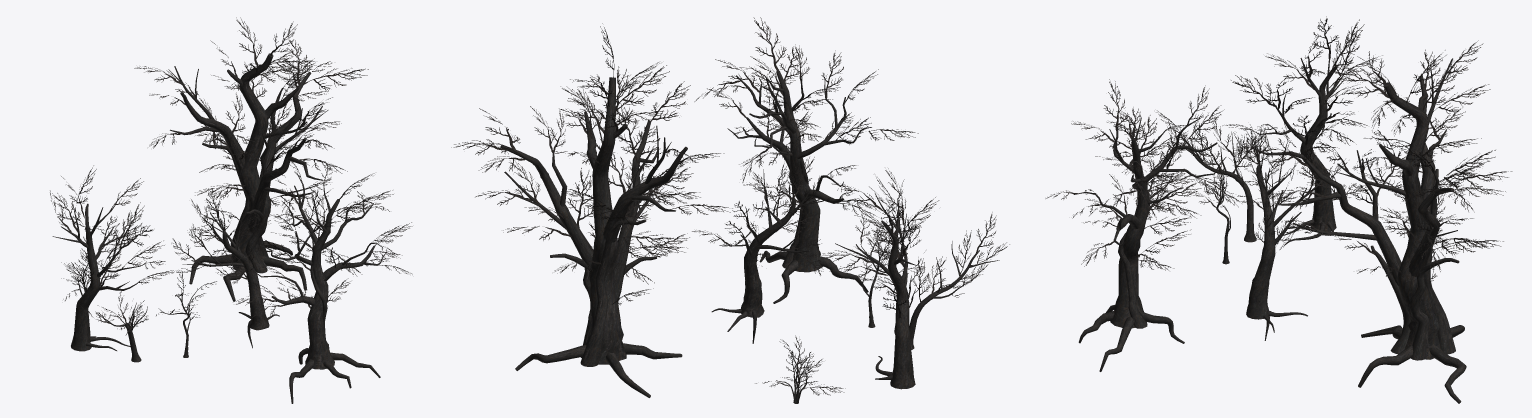
Rendered from trees.glb.
3 renders of one model, left to right at view 1: azimuth 30°, elevation 25°; view 2: azimuth 150°, elevation 25°; view 3: azimuth 270°, elevation 25°, orthographic. The views are drawn at different scales.
Visible parts, largest first — view 1: tree6, branch_4, tree5, branch_3, tree2, branch_, tree1, branch, branch_2, tree4; view 2: tree6, branch_4, tree5, branch_3, tree2, branch_, tree1, branch, branch_2, tree4, branch_5; view 3: tree6, branch_4, tree5, branch_3, branch_, tree1, tree2, branch, branch_2, tree4, branch__2.
Boxes of the visible parts, x1,y1,x2,y2 form: tree6: (168,53,328,301); branch_4: (134,17,368,222); tree5: (252,173,386,403); branch_3: (234,155,412,317); tree2: (52,198,146,351); branch_: (50,165,177,292); tree1: (182,202,279,348); branch: (171,188,270,283); branch_2: (80,289,148,329); tree4: (96,302,147,362); tree6: (500,77,687,397); branch_4: (451,23,732,305); tree5: (727,70,871,303); branch_3: (694,17,918,218); tree2: (835,193,917,389); branch_: (817,168,939,318); tree1: (711,169,829,343); branch: (692,157,823,275); branch_2: (913,212,1009,301); tree4: (909,241,999,349); branch_5: (755,335,845,395); tree6: (1275,58,1466,403); branch_4: (1236,40,1512,281); tree5: (1073,117,1226,371); branch_3: (1045,79,1241,270); branch_: (1222,16,1382,157); tree1: (1246,141,1336,340); tree2: (1252,44,1344,245); branch: (1231,119,1368,250); branch_2: (1156,110,1266,188); tree4: (1169,131,1256,242); branch__2: (1187,152,1227,210).
Size of the model in its own units: 4174 by 3021 by 3791.
Materials: 2 (2 with a texture image).
